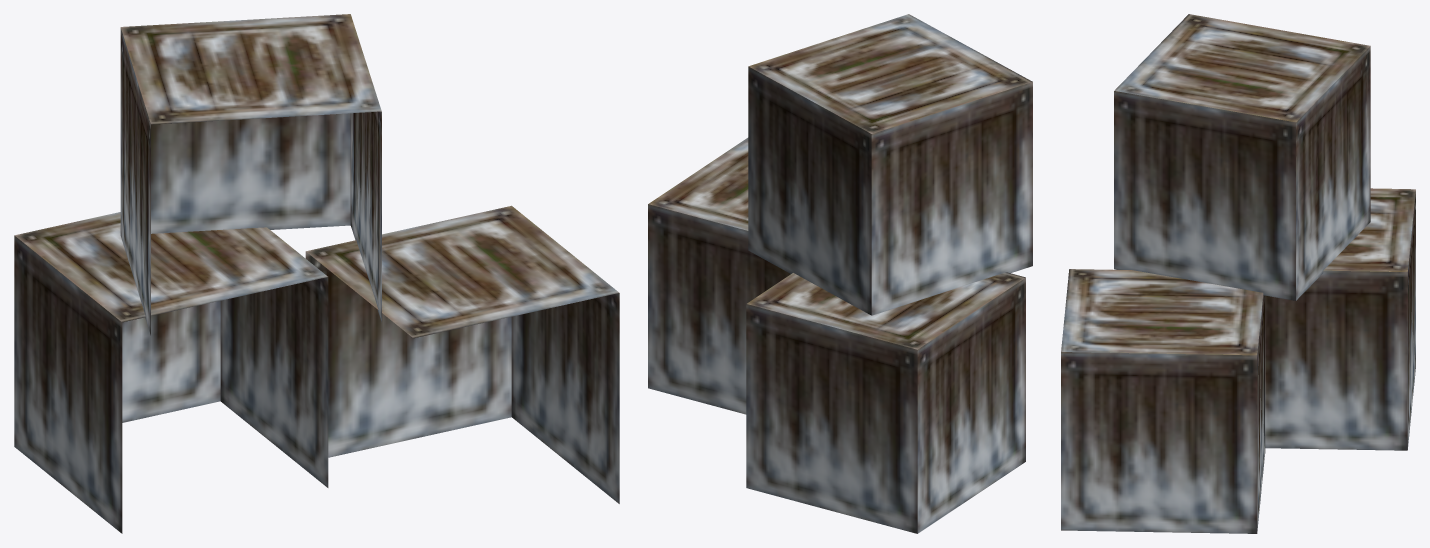
Rendered from SC001Jwujian_02.FBX.
3 renders of one model, left to right at view 1: azimuth 30°, elevation 25°; view 2: azimuth 150°, elevation 25°; view 3: azimuth 270°, elevation 25°, orthographic. The views are drawn at different scales.
Visible parts, largest first — view 1: polySurface2, polySurface1, polySurface3; view 2: polySurface3, polySurface2, polySurface1; view 3: polySurface3, polySurface1, polySurface2.
Boxes of the visible parts, box(x1,y1,x2,y2) form: polySurface2: box(14, 212, 328, 533); polySurface1: box(305, 205, 619, 503); polySurface3: box(120, 14, 381, 335); polySurface3: box(748, 14, 1032, 315); polySurface2: box(746, 272, 1025, 533); polySurface1: box(648, 137, 790, 414); polySurface3: box(1114, 14, 1370, 300); polySurface1: box(1061, 269, 1265, 533); polySurface2: box(1265, 188, 1415, 450).
Size of the model in its own units: 108 by 105 by 95.32.
